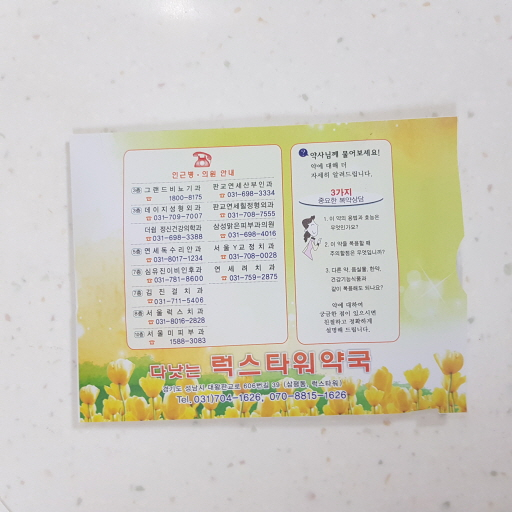Paper_2: (62, 111, 482, 442)
